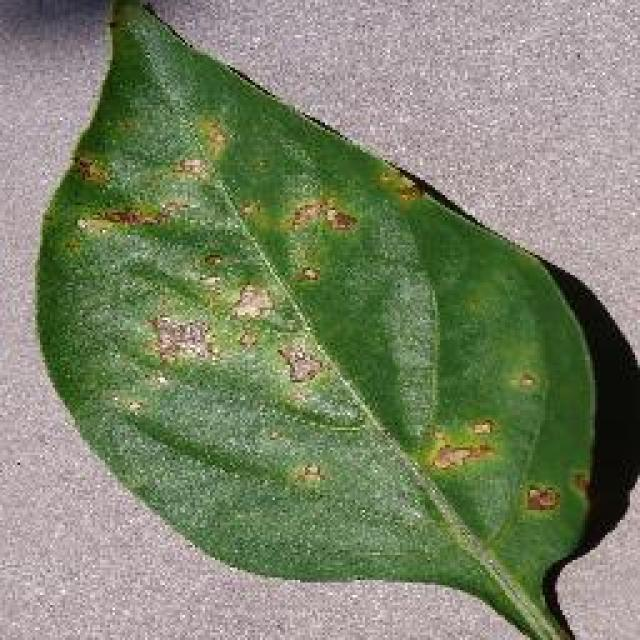Chilli_Bacterial_Spot: (30, 0, 605, 638), (63, 112, 435, 502), (70, 192, 192, 240), (420, 412, 502, 478), (142, 310, 220, 368), (278, 192, 360, 240), (370, 162, 425, 208), (273, 340, 325, 388), (225, 277, 275, 325), (190, 112, 232, 162), (68, 150, 112, 190), (518, 480, 562, 518), (318, 202, 360, 238), (285, 458, 327, 492), (510, 365, 540, 395), (290, 260, 322, 288), (465, 412, 497, 440)
